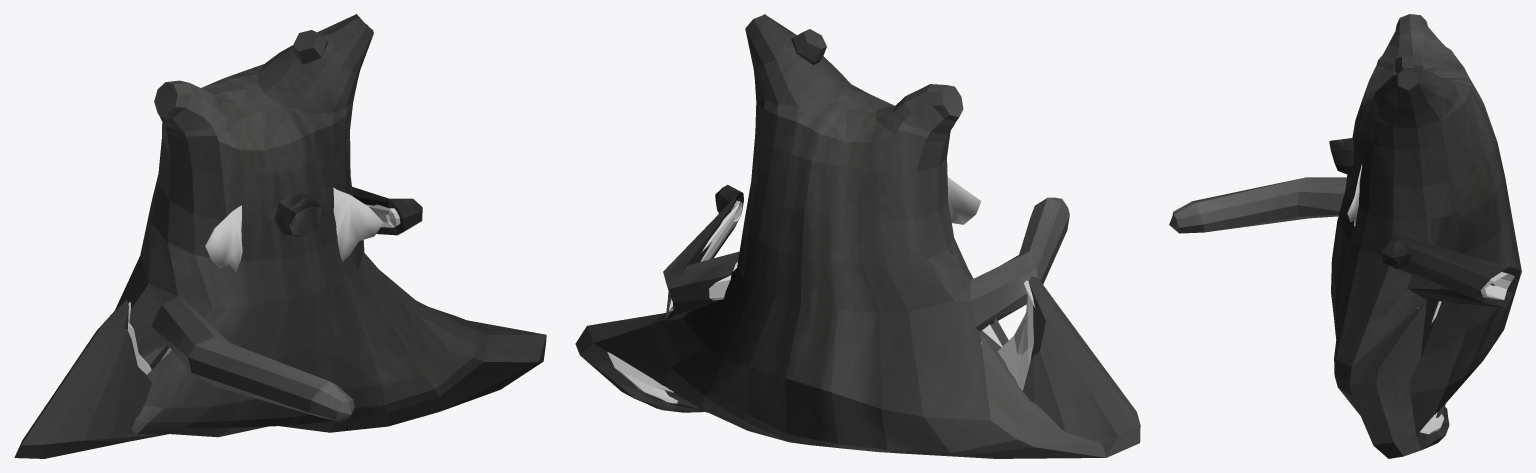
The model's file is frame_0004.obj.
3 renders of one model, left to right at view 1: azimuth 30°, elevation 25°; view 2: azimuth 150°, elevation 25°; view 3: azimuth 270°, elevation 25°, orthographic. The views are drawn at different scales.
Visible parts, largest first — view 1: korok, leaf, nose; view 2: korok, leaf; view 3: korok, nose.
Part boxes in pixels (bbox=[...]): korok: bbox=[14, 14, 546, 458]; leaf: bbox=[205, 187, 383, 272]; nose: bbox=[274, 192, 323, 236]; korok: bbox=[575, 14, 1140, 458]; leaf: bbox=[947, 177, 981, 224]; korok: bbox=[1169, 14, 1521, 458]; nose: bbox=[1329, 138, 1354, 175].
Bounding box in the file's own units: 3.17 × 2.2 × 2.12.
